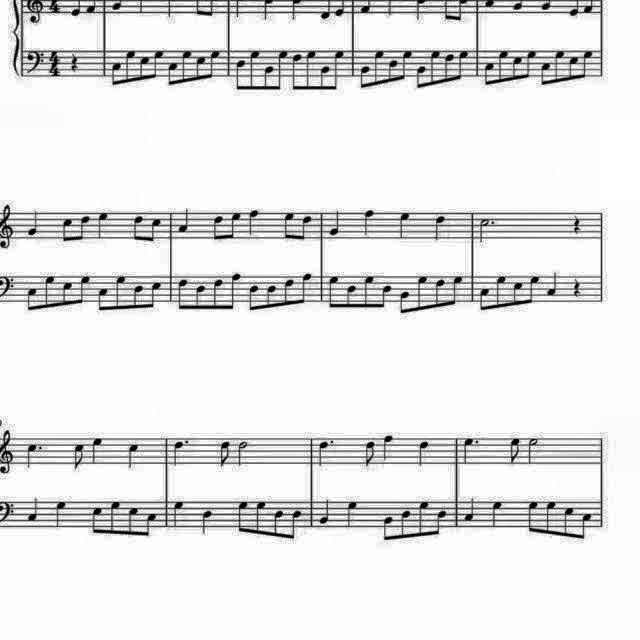Bass-clef: (25, 48, 47, 76)
Eighth-note: (273, 42, 291, 94), (245, 49, 262, 91), (288, 48, 304, 92), (234, 498, 252, 536), (304, 48, 320, 90), (414, 272, 430, 312), (372, 49, 388, 89), (416, 500, 432, 540), (542, 498, 558, 538), (41, 272, 57, 310), (112, 273, 128, 311), (252, 499, 268, 537), (360, 272, 376, 310), (107, 499, 123, 537), (332, 48, 348, 86), (69, 441, 87, 474), (210, 274, 226, 310), (434, 274, 450, 310), (398, 48, 414, 84), (560, 504, 576, 540), (300, 270, 316, 306), (324, 274, 340, 310), (450, 272, 466, 308), (526, 498, 542, 534), (230, 270, 244, 310), (150, 48, 166, 82), (182, 50, 198, 84), (126, 505, 142, 539), (215, 438, 232, 470), (492, 274, 508, 308), (580, 49, 596, 83), (280, 208, 296, 242), (359, 438, 376, 470), (507, 435, 525, 465), (206, 49, 222, 82), (176, 278, 192, 310), (76, 274, 92, 306), (246, 280, 262, 312), (280, 274, 296, 306), (90, 504, 106, 536), (526, 273, 542, 305), (578, 509, 594, 541), (288, 510, 304, 542), (125, 48, 139, 84), (497, 49, 511, 85), (554, 48, 568, 84), (60, 278, 76, 308), (96, 283, 112, 313), (148, 278, 164, 308), (60, 213, 76, 243), (132, 212, 148, 242), (76, 212, 92, 242), (300, 214, 316, 244), (24, 283, 40, 313), (434, 508, 450, 538), (428, 48, 440, 88), (524, 49, 538, 83), (456, 49, 470, 83), (130, 282, 146, 310), (398, 508, 412, 540), (148, 214, 164, 242), (272, 508, 286, 540), (378, 282, 394, 310), (262, 64, 278, 92), (356, 64, 372, 92), (108, 60, 124, 88), (378, 512, 394, 540), (478, 284, 494, 312), (142, 512, 158, 540), (210, 212, 224, 242), (233, 58, 247, 88), (228, 210, 242, 240), (396, 288, 412, 314), (444, 49, 456, 82), (512, 278, 526, 306), (195, 280, 209, 308), (537, 60, 551, 88), (266, 280, 280, 308), (167, 60, 181, 88), (318, 64, 332, 92), (345, 282, 359, 308), (483, 61, 497, 87), (196, 53, 208, 83), (138, 53, 150, 83), (512, 52, 524, 82), (386, 58, 399, 84), (567, 55, 579, 83), (416, 64, 428, 92)
Half-dot: (477, 216, 499, 246)
Half-note: (236, 437, 252, 467), (525, 435, 541, 465)
Quarter-dot: (461, 432, 484, 470), (172, 435, 194, 467), (24, 440, 46, 472), (316, 436, 336, 468)
Quarter-note: (429, 213, 449, 243), (95, 208, 113, 240), (89, 435, 107, 467), (395, 208, 413, 240), (125, 441, 144, 471), (25, 208, 43, 238), (325, 207, 343, 237), (415, 438, 433, 468), (359, 207, 377, 237), (344, 498, 361, 528), (175, 206, 193, 234), (378, 431, 394, 462), (54, 497, 70, 528), (26, 495, 42, 525), (171, 497, 187, 527), (488, 500, 504, 530), (246, 207, 262, 237), (200, 508, 217, 536), (464, 496, 480, 524), (544, 270, 560, 298), (320, 498, 334, 526)
Quarter-rest: (568, 210, 584, 236), (568, 275, 584, 299), (66, 50, 82, 74)
